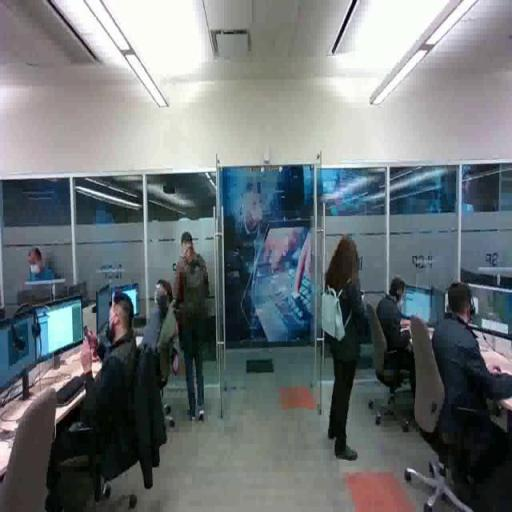person: (420, 277, 512, 502), (62, 288, 152, 494), (321, 233, 370, 464), (372, 272, 436, 413), (171, 232, 214, 426), (138, 273, 185, 425), (22, 239, 62, 309)
